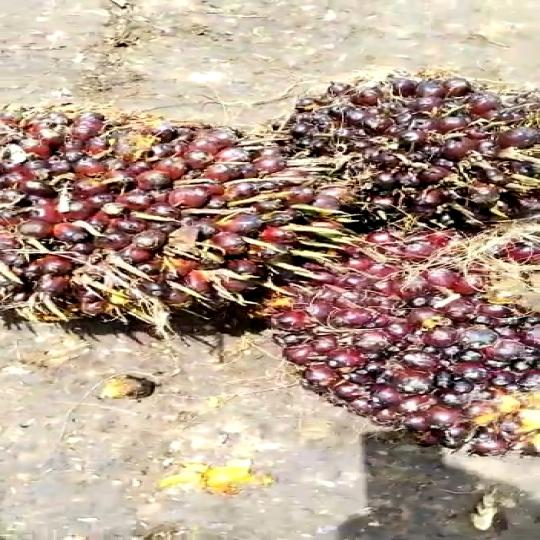kurang masak: (0, 112, 342, 340), (283, 232, 540, 437), (265, 73, 540, 214)
